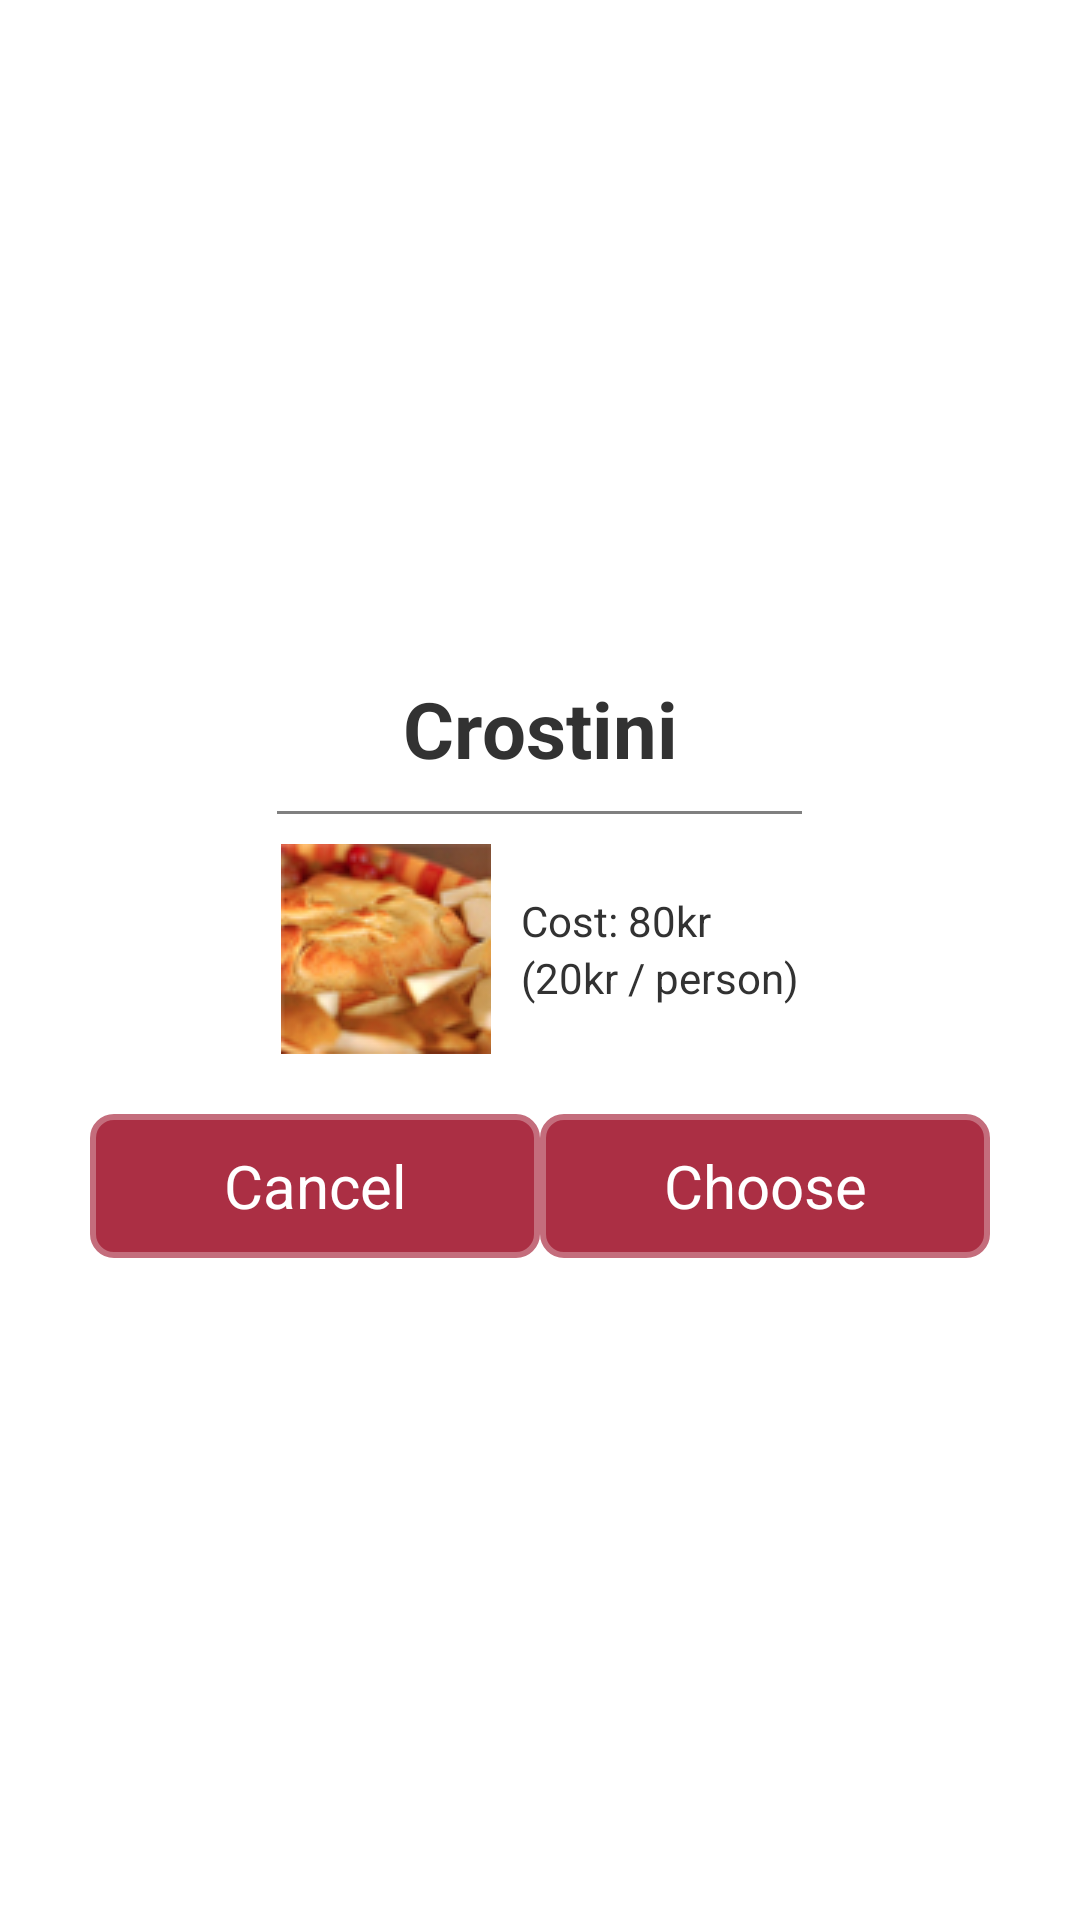

Named icons in this screenshot (1080*1920) and their centers, (x,y):
bakedbrie: (386,949)
